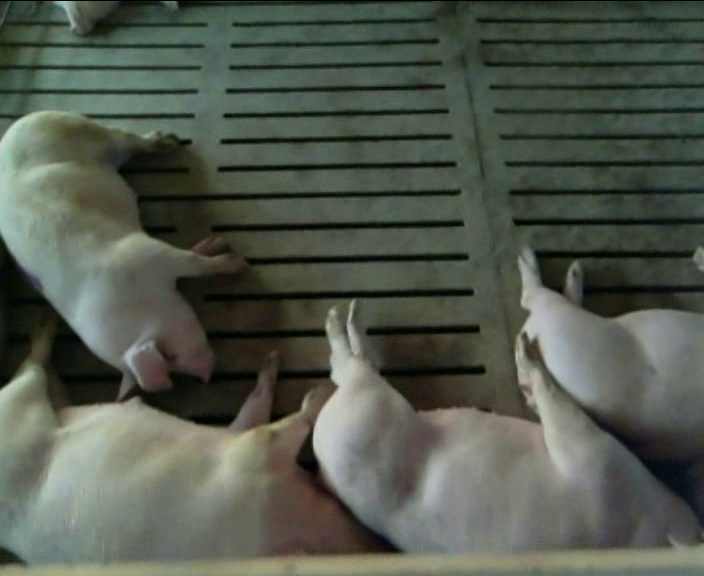pig: (0, 320, 382, 562), (315, 310, 698, 551)
